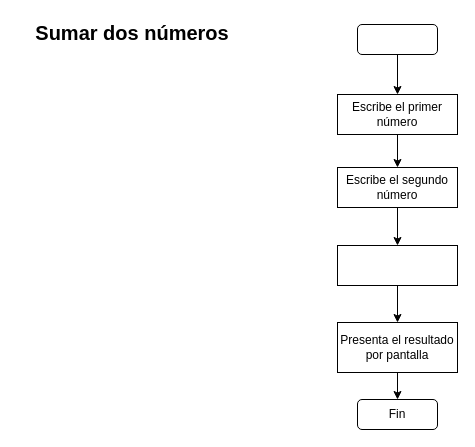
This 475x447 diagram has some shape labels left out. Here are the shapes that lost their labels. From the top down, the box of each, then its label:
(356, 24, 438, 54): Inicio
(336, 244, 458, 286): Suma los dos números
